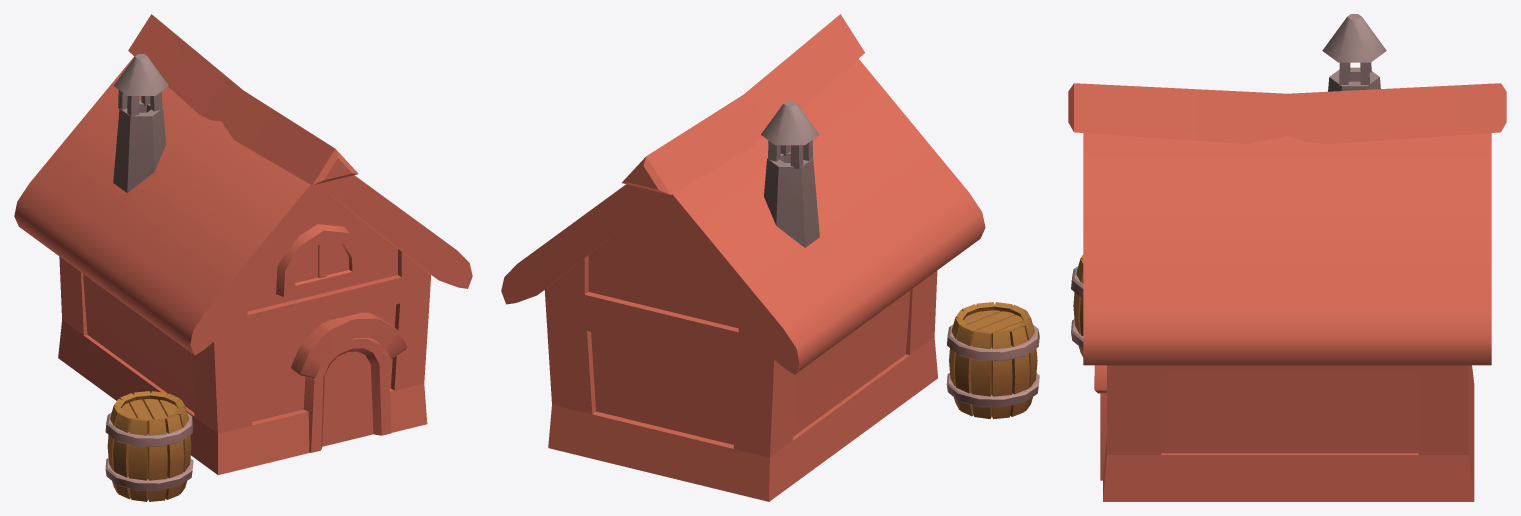
The model's file is House Small11.fbx.
The picture shows the model from 3 angles, left to right: view 1: azimuth 30°, elevation 25°; view 2: azimuth 150°, elevation 25°; view 3: azimuth 270°, elevation 25°; orthographic projection. The views are drawn at different scales.
Parts seen in each view (by area): view 1: Cube.233, Cube.232; view 2: Cube.233, Cube.232; view 3: Cube.233, Cube.232.
Part boxes in pixels (x1,y1,x2,y2): Cube.233: (14,14,472,475); Cube.232: (105,391,193,501); Cube.233: (501,14,985,501); Cube.232: (946,302,1039,419); Cube.233: (1068,14,1506,501); Cube.232: (1071,254,1083,357).
Bounding box in the file's own units: 1.4 × 1.3 × 1.33.
